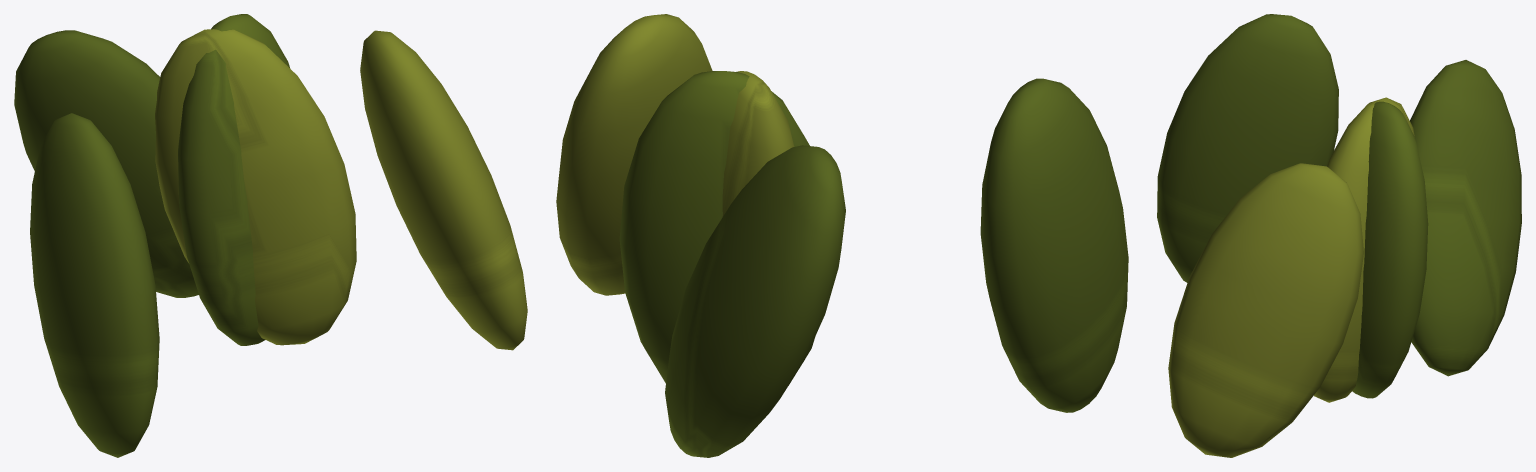
The model's file is Foliage_2.fbx.
3 views of the same model, side by side, from view 1: azimuth 30°, elevation 25°; view 2: azimuth 150°, elevation 25°; view 3: azimuth 270°, elevation 25° (orthographic). The views are drawn at different scales.
Visible parts, largest first — view 1: Foliage_2; view 2: Foliage_2; view 3: Foliage_2.
Part boxes in pixels (bbox=[...]): Foliage_2: bbox=[14, 14, 527, 457]; Foliage_2: bbox=[556, 14, 1128, 457]; Foliage_2: bbox=[1157, 14, 1521, 457].
Size of the model in its own units: 50.44 by 33.84 by 39.08.
1 material, 1 textured.
